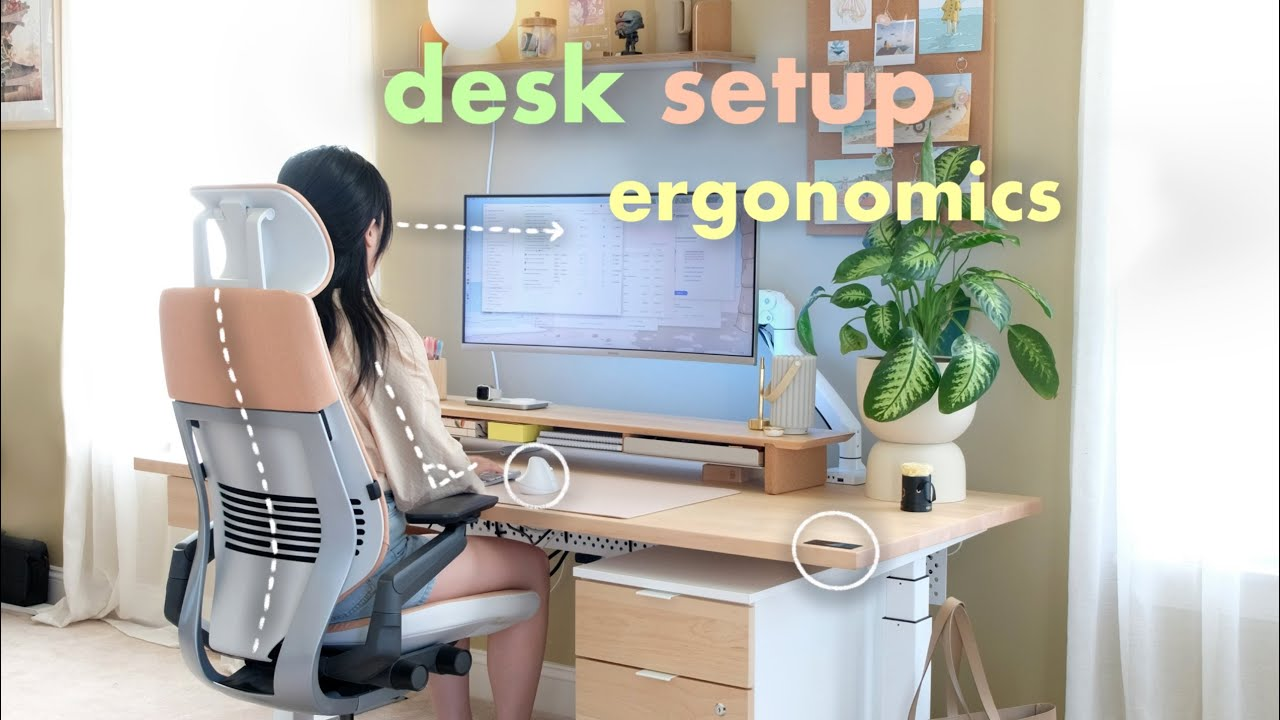not a gesture sign: (819, 0, 1279, 717)
